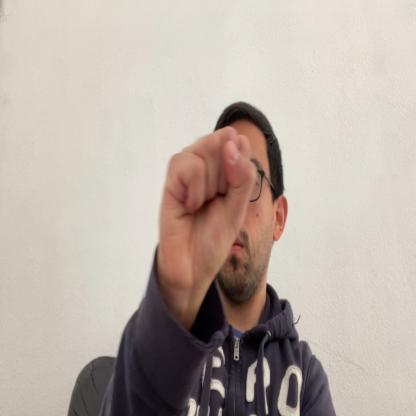S: (158, 124, 258, 288)
